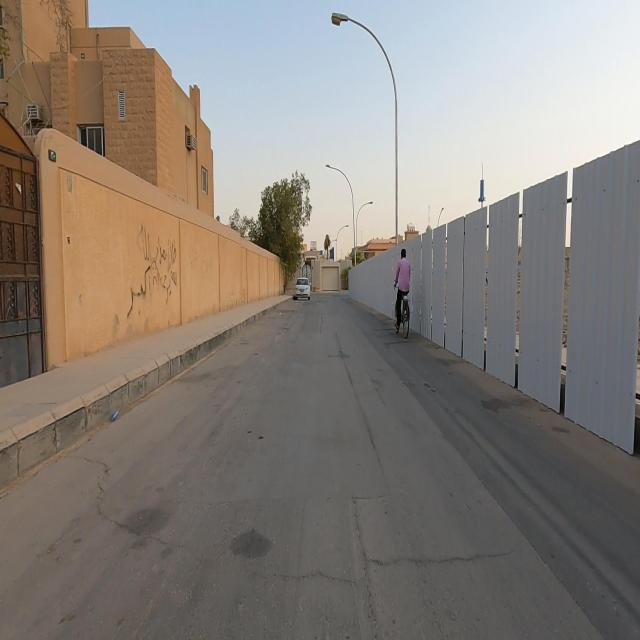Graffiti: (126, 225, 180, 320)
